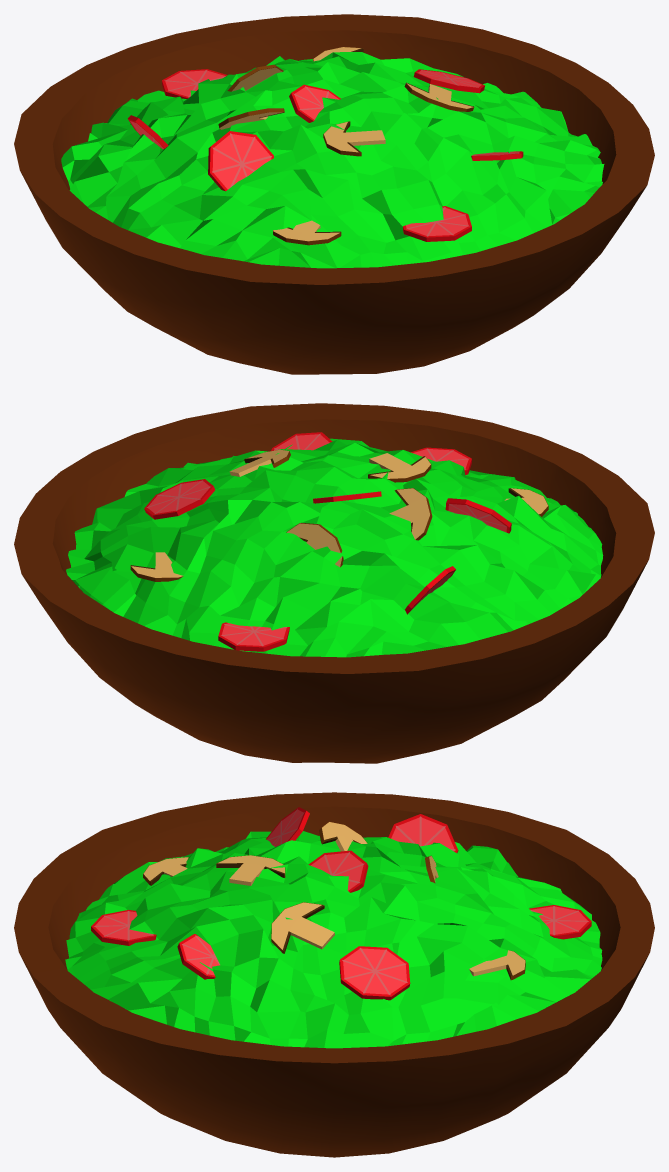
File: mushroom salad.fbx
3 renders of one model, top to bottom at view 1: azimuth 30°, elevation 25°; view 2: azimuth 150°, elevation 25°; view 3: azimuth 270°, elevation 25°, orthographic.
Visible parts, largest first — view 1: salad; view 2: salad; view 3: salad.
Part boxes in pixels (<box>): salad: <box>14,14,654,374</box>; salad: <box>14,403,654,763</box>; salad: <box>14,792,654,1157</box>.
Bounding box in the file's own units: 28.74 × 12.09 × 28.74.
